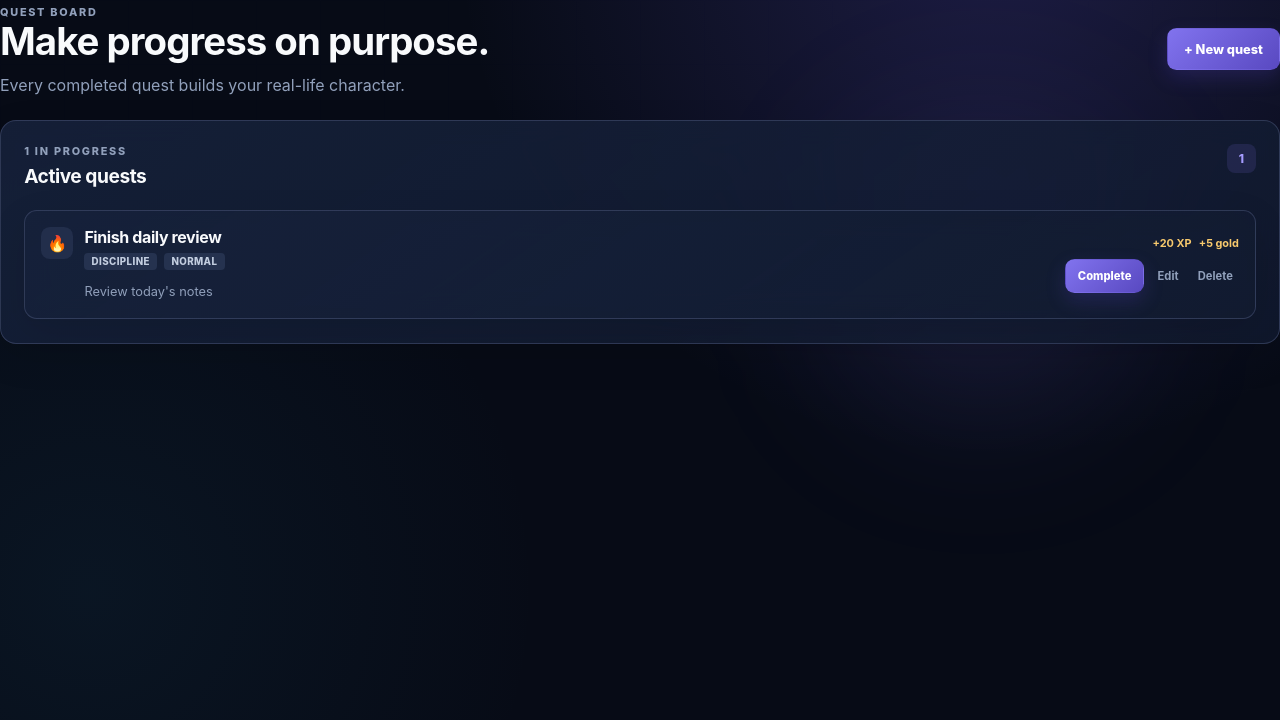
Test: Tasks page › renders a quest and shows reward feedback after completion
Check: the heading "Finish daily review" is shown, box [84,227,225,247]
Click the button "Complete" at point(1105, 276), box [1065,259,1144,293]
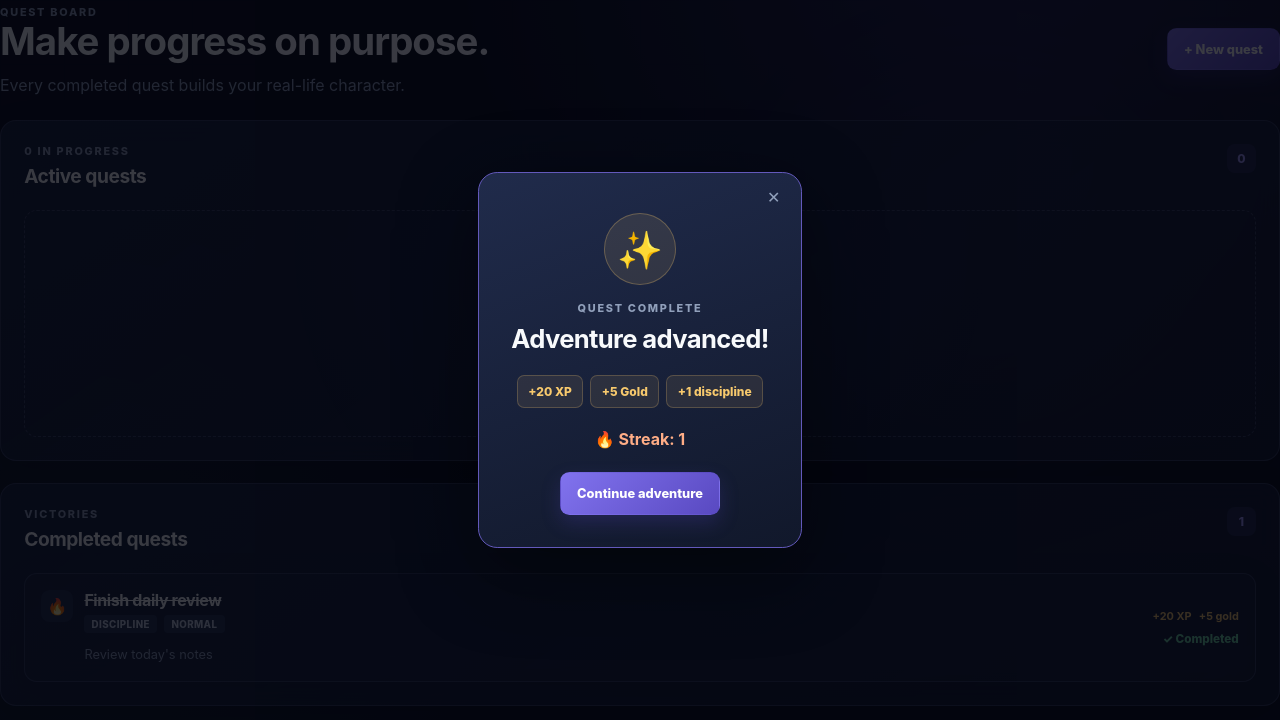
Check: the dialog shows "Adventure advanced!", box [511,323,769,354]
